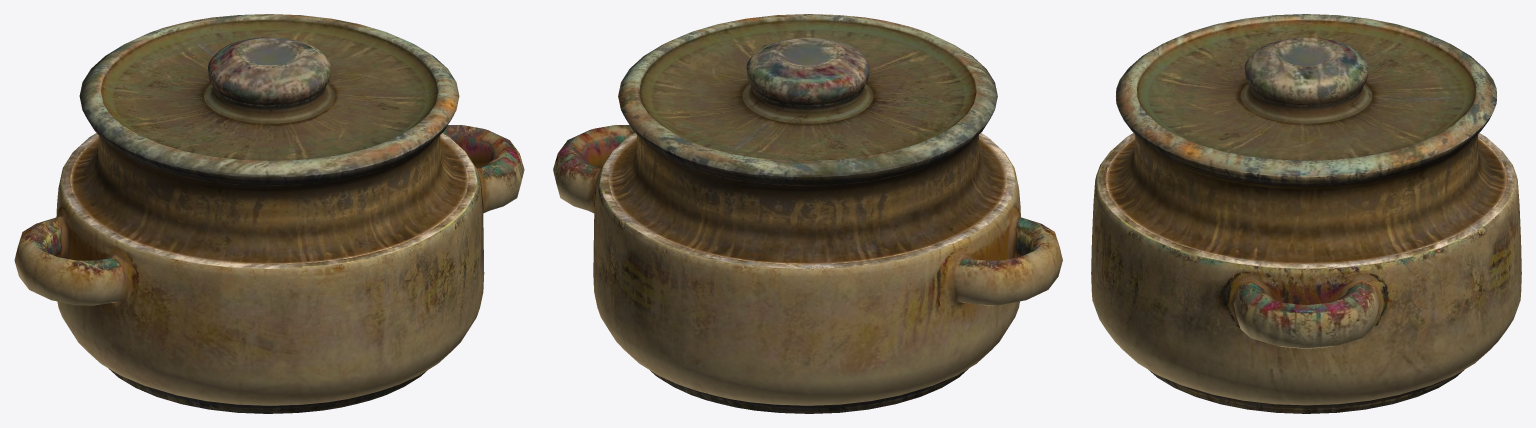
Rendered from ceramic_pot.glb.
3 views of the same model, side by side, from view 1: azimuth 30°, elevation 25°; view 2: azimuth 150°, elevation 25°; view 3: azimuth 270°, elevation 25° (orthographic).
Parts seen in each view (by area): view 1: ceramic_pot; view 2: ceramic_pot; view 3: ceramic_pot.
Boxes of the visible parts, x1=… form: ceramic_pot: x1=14, y1=14, x2=524, y2=413; ceramic_pot: x1=553, y1=14, x2=1062, y2=413; ceramic_pot: x1=1091, y1=14, x2=1521, y2=413.
Size of the model in its own units: 0.6563 by 0.3717 by 0.5018.
Materials: 1 (1 with a texture image).
